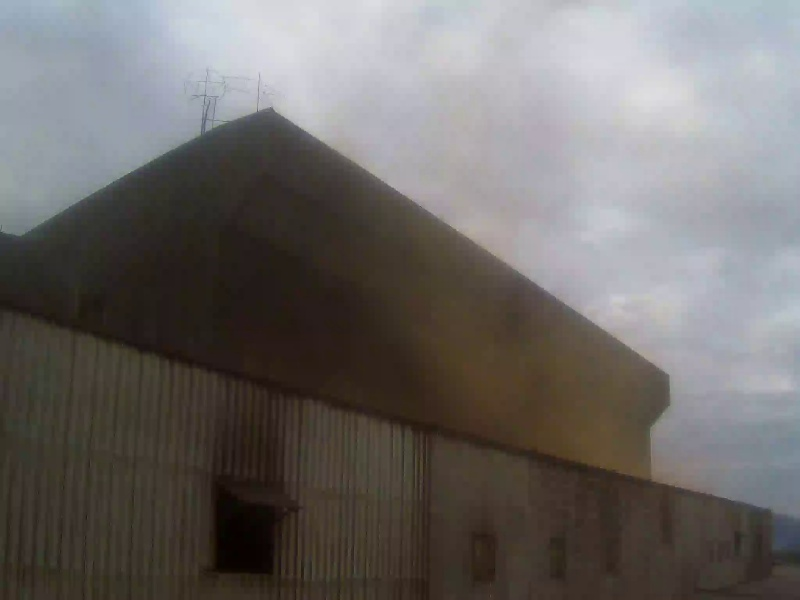Pessimo: (351, 198, 685, 485)
